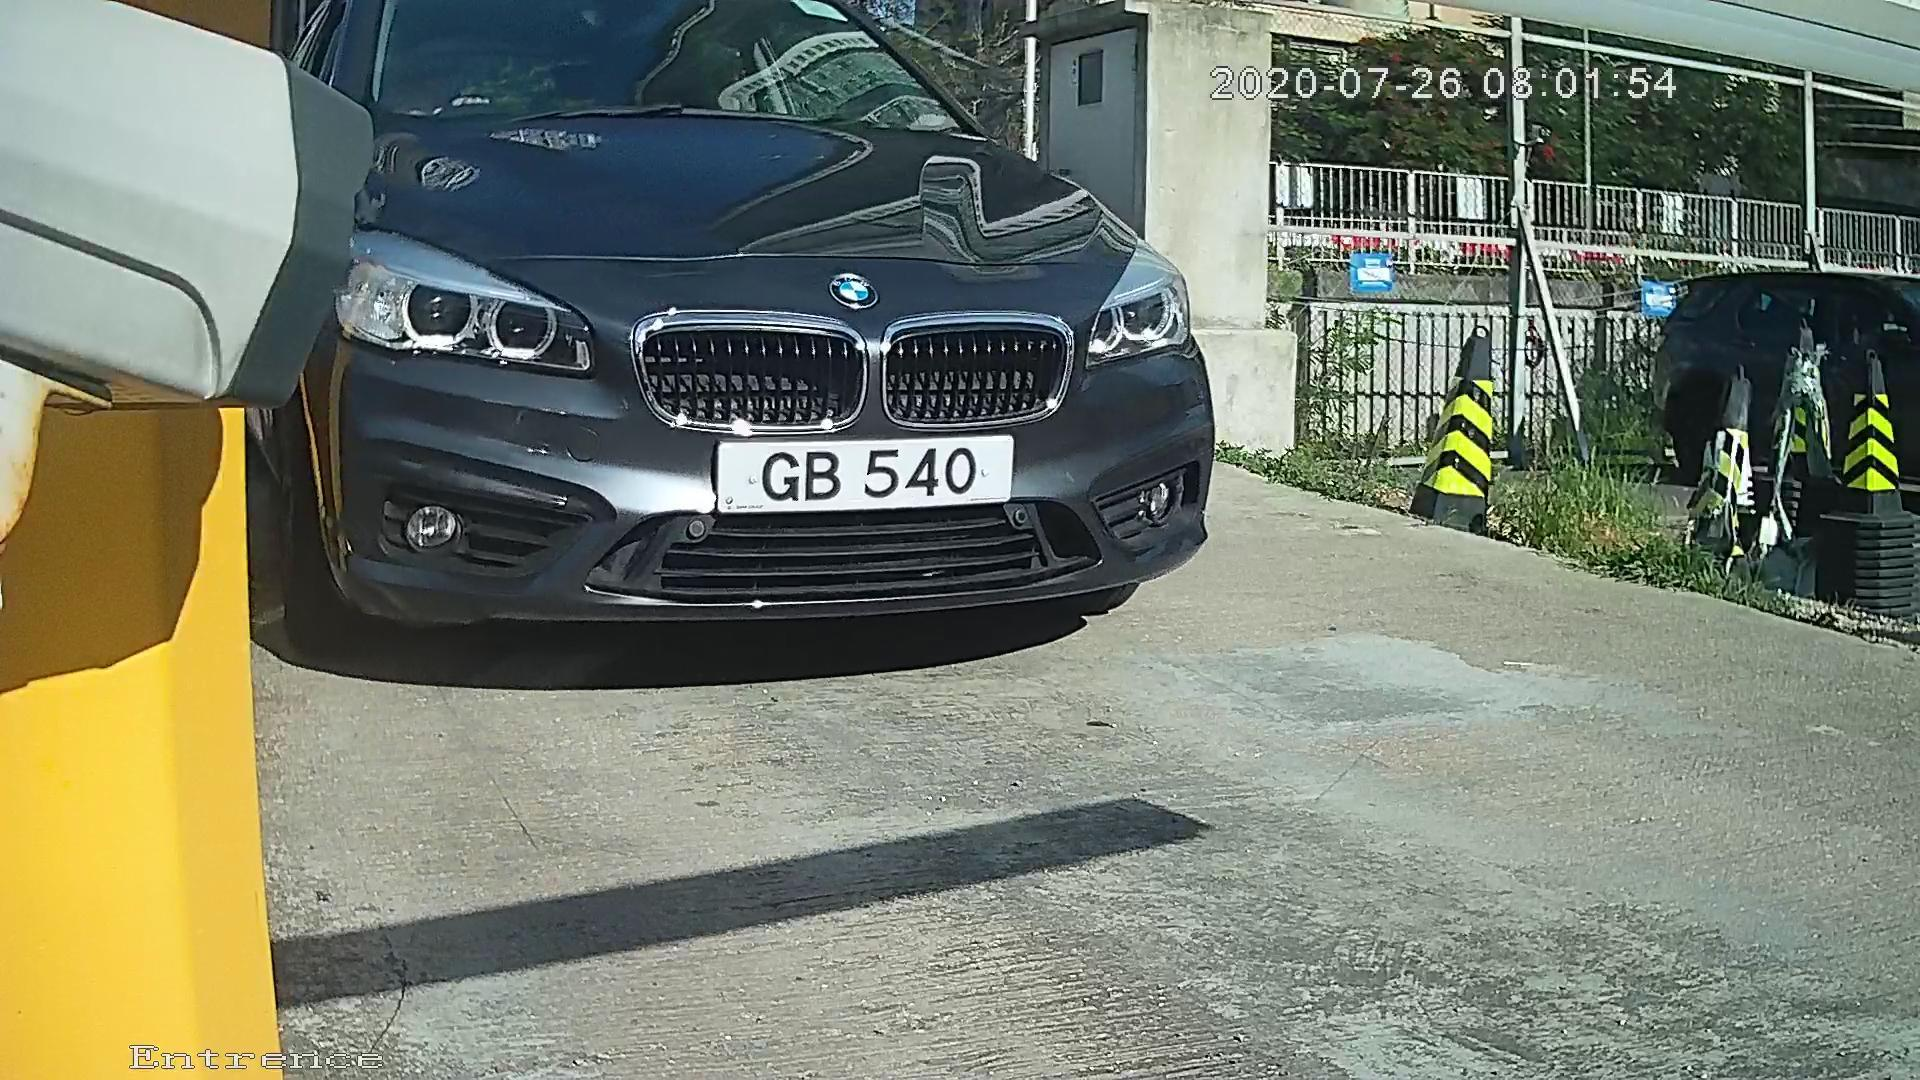privatecar: (181, 20, 1312, 647)
